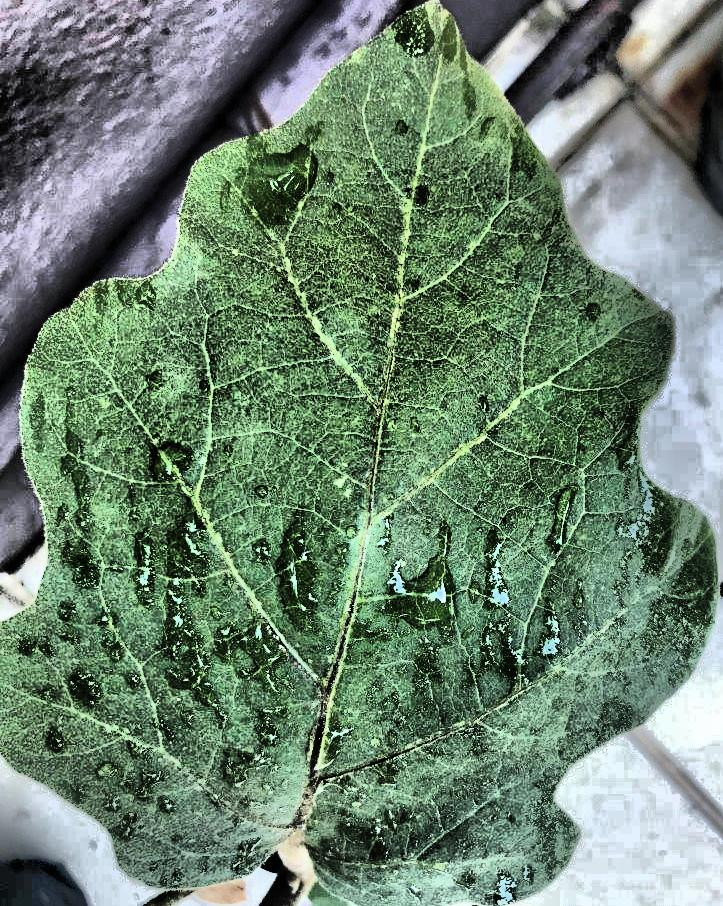HEALTHY: (1, 0, 723, 906)
